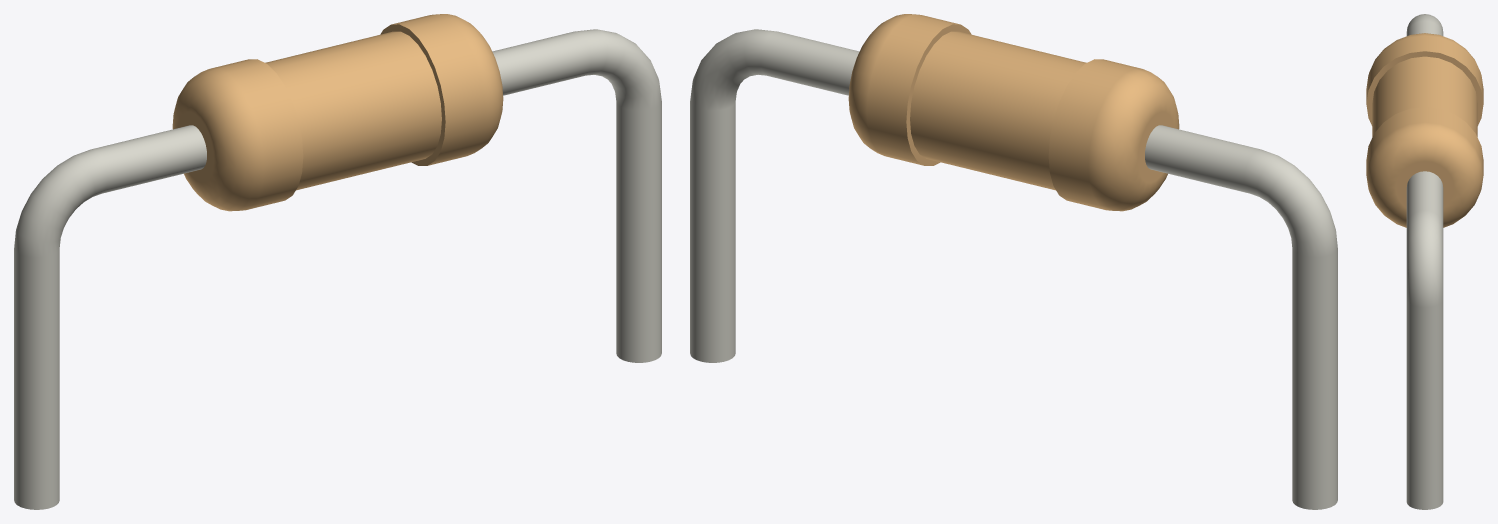
File: Resistor_THT__R_Axial_DIN0204_L3.6mm_D1.6mm_P7.62mm_Horizontal.glb
3 renders of one model, left to right at view 1: azimuth 30°, elevation 25°; view 2: azimuth 150°, elevation 25°; view 3: azimuth 270°, elevation 25°, orthographic. The views are drawn at different scales.
Visible parts, largest first — view 1: R_Axial_DIN0204_L36mm_D16mm_P762mm_Horizontal; view 2: R_Axial_DIN0204_L36mm_D16mm_P762mm_Horizontal; view 3: R_Axial_DIN0204_L36mm_D16mm_P762mm_Horizontal.
Part boxes in pixels (<box>): R_Axial_DIN0204_L36mm_D16mm_P762mm_Horizontal: <box>14,14,661,509</box>; R_Axial_DIN0204_L36mm_D16mm_P762mm_Horizontal: <box>690,14,1337,509</box>; R_Axial_DIN0204_L36mm_D16mm_P762mm_Horizontal: <box>1366,14,1483,509</box>.
Bounding box in the file's own units: 0.00812 × 0.0046 × 0.0016.
